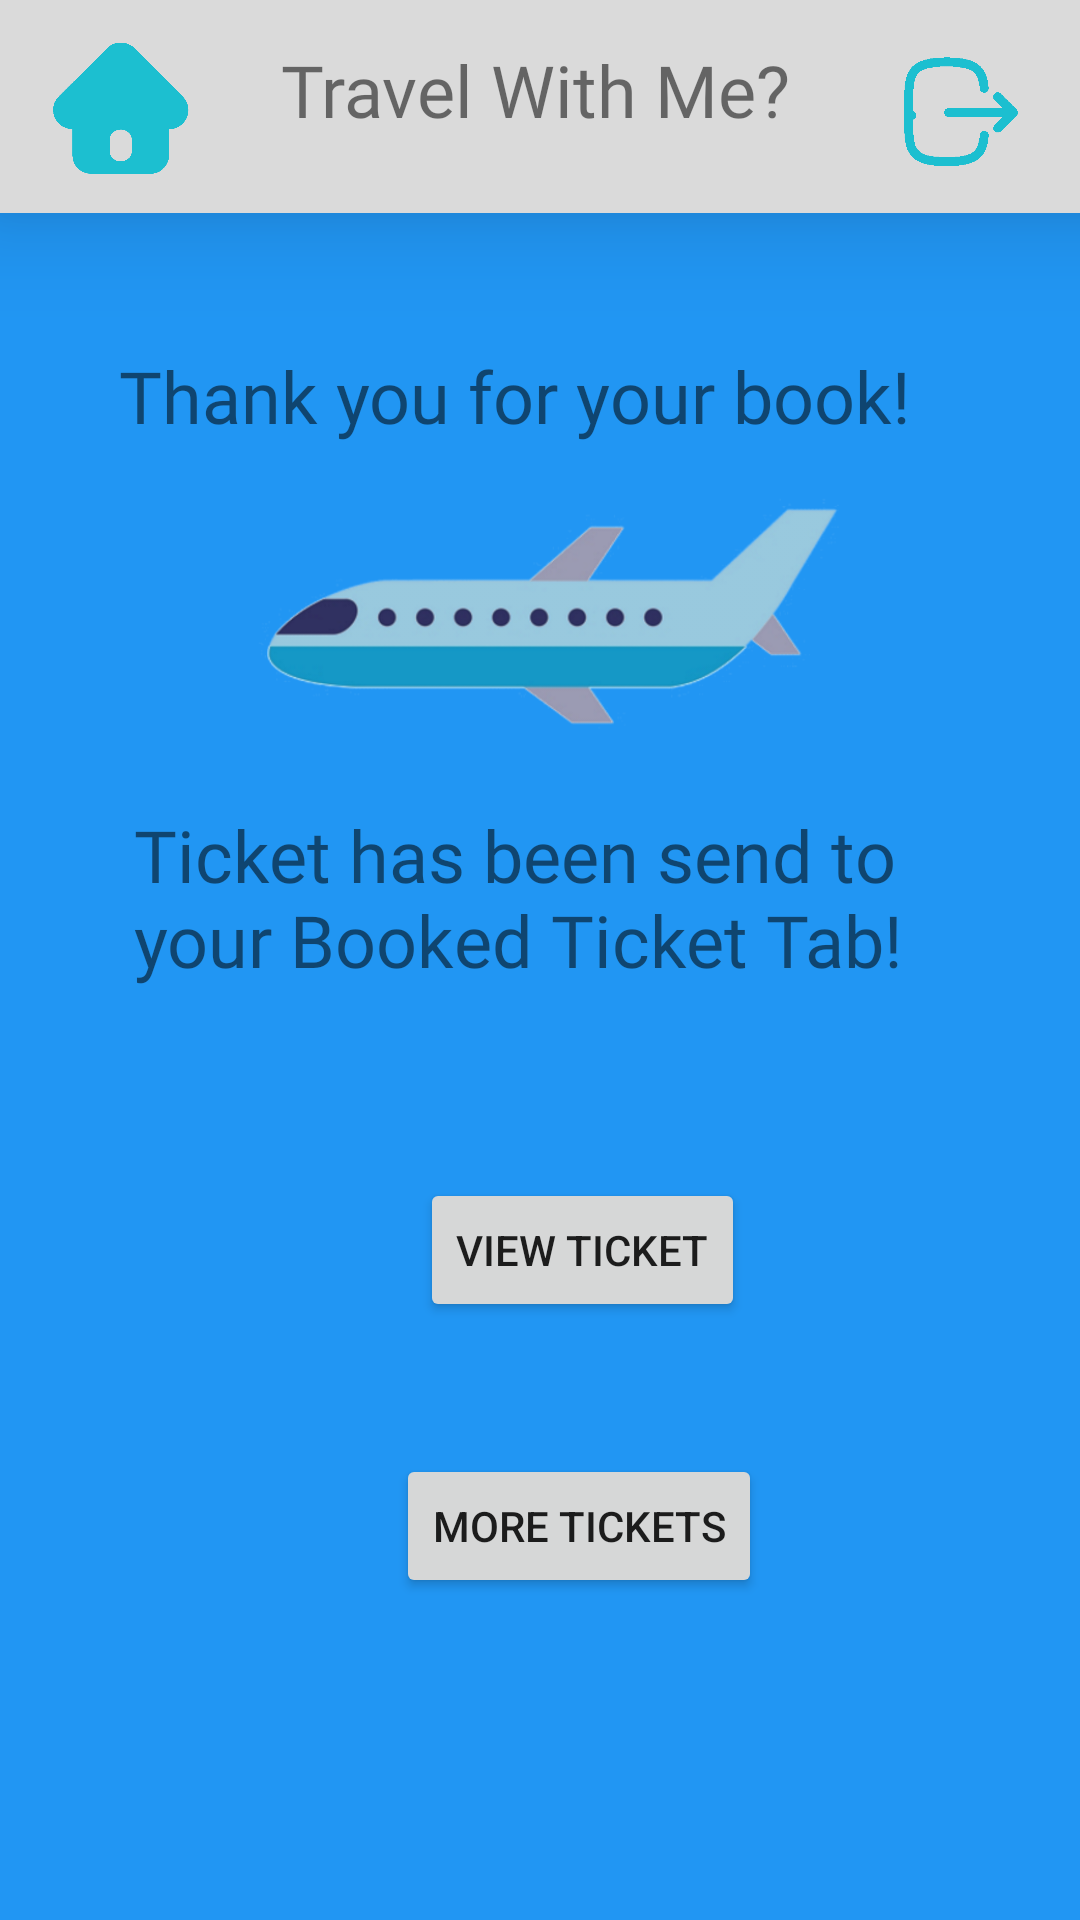

Screen size 1080px x 1920px. Icon name, then its box in pixels as {"x1": x1, "y1": y1, "x2": x2, "y2": y2}:
rumah: {"x1": 53, "y1": 43, "x2": 189, "y2": 174}
